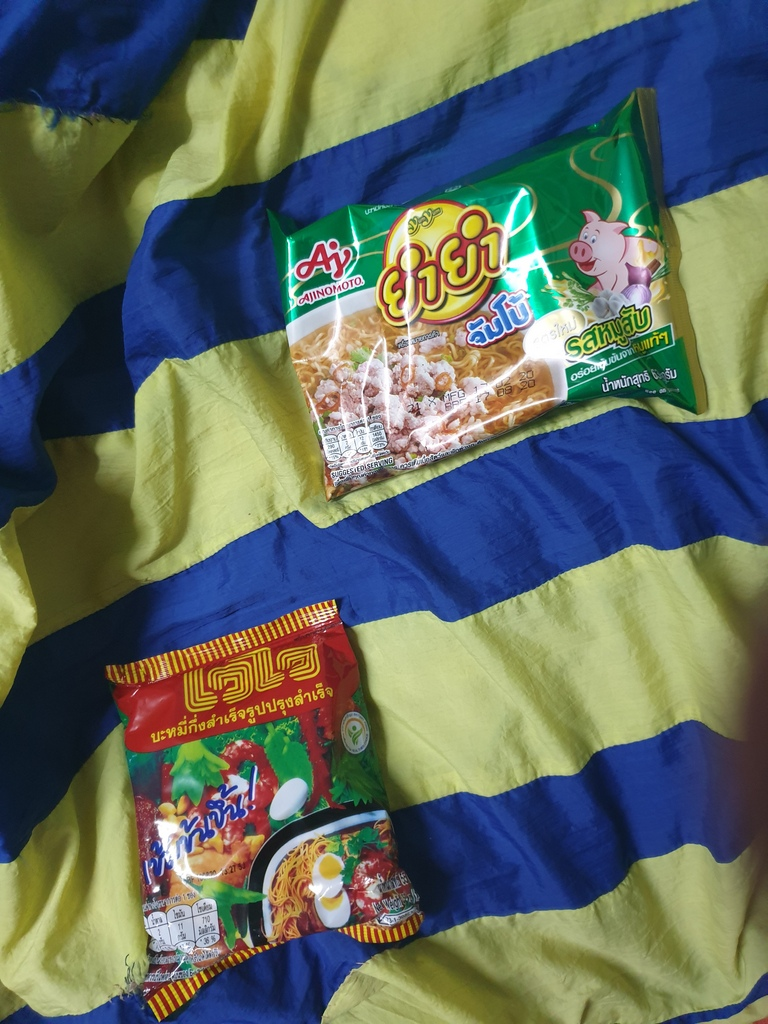waiwai: (109, 619, 430, 964)
yumyum: (281, 162, 718, 431)
